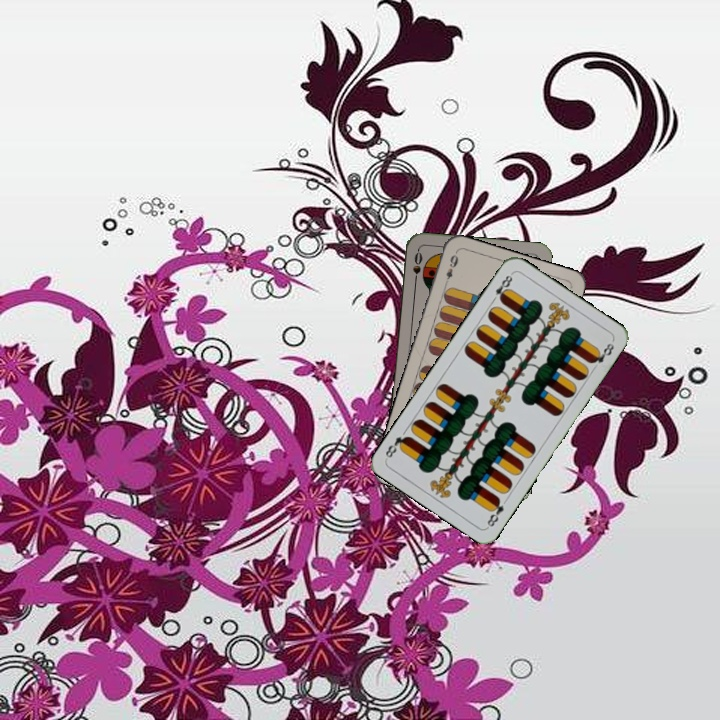E8: (487, 270, 515, 305), (483, 494, 506, 530)
E9: (441, 249, 461, 289)
SO: (409, 247, 425, 287)
